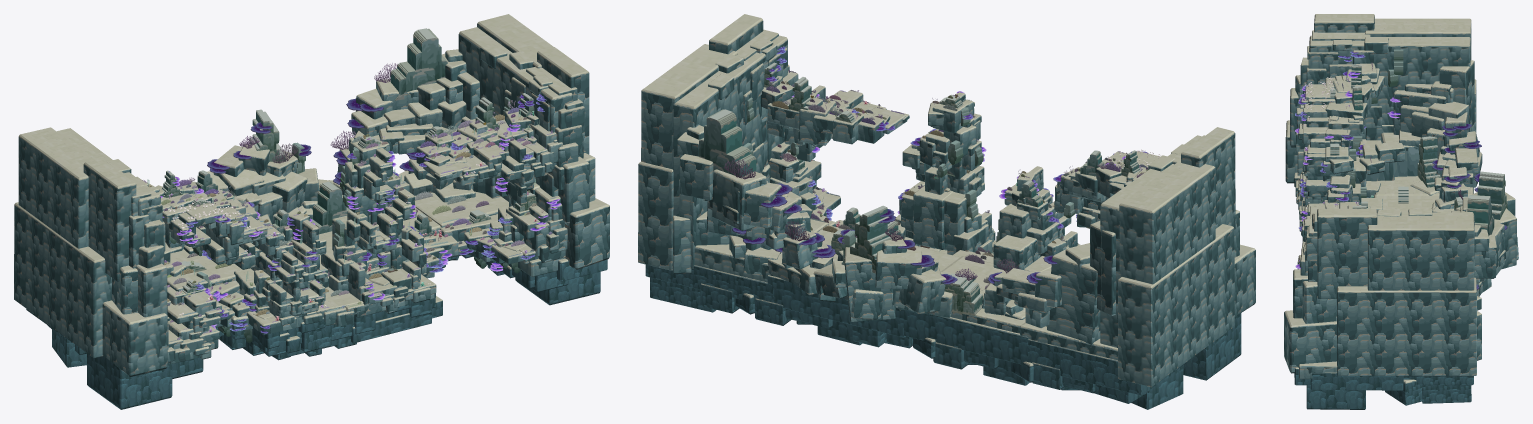
The picture shows the model from 3 angles, left to right: view 1: azimuth 30°, elevation 25°; view 2: azimuth 150°, elevation 25°; view 3: azimuth 270°, elevation 25°; orthographic projection. The views are drawn at different scales.
Bounding box in the file's own units: 151 × 63.61 × 70.27.
27 materials, 27 textured.
